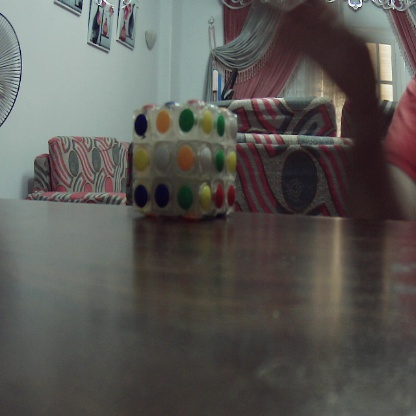Rubix Cube: (131, 107, 234, 215)
